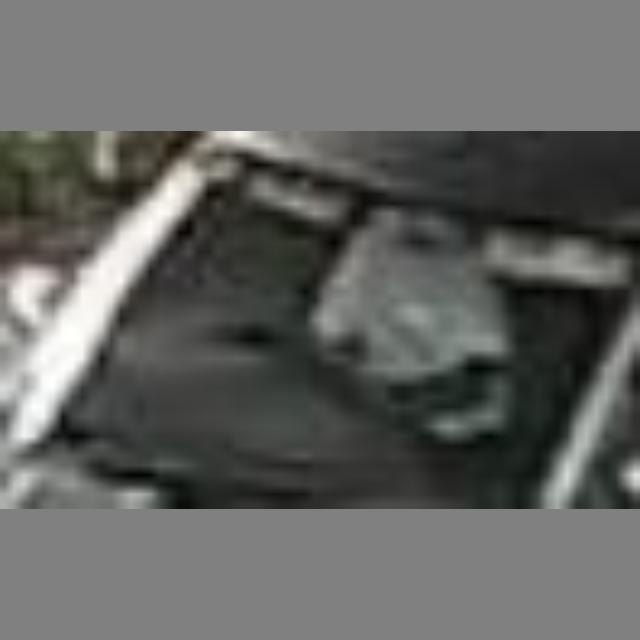tidak-pakai: (262, 218, 495, 403)
